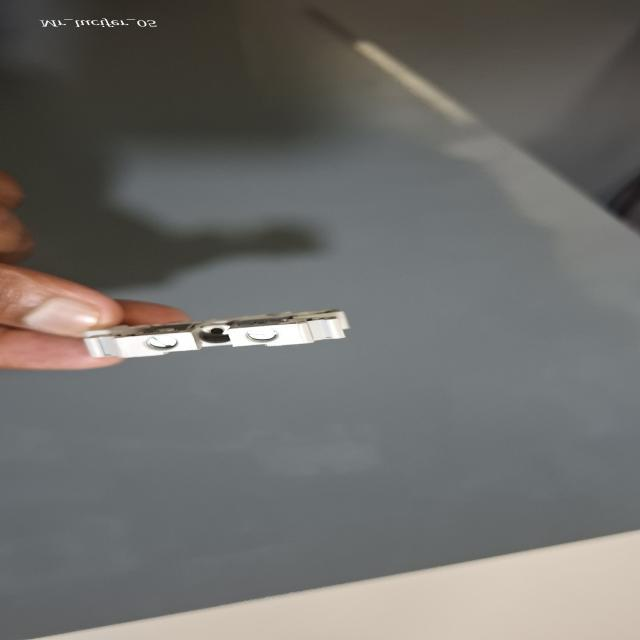Inverted: (66, 305, 370, 361)
